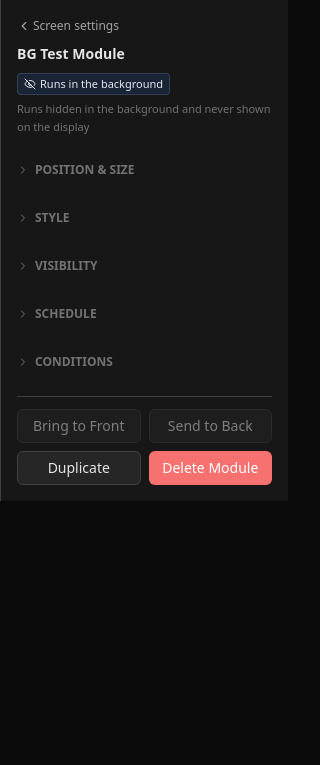
Test: PropertyPanel background-provider toggle › (b) shows the toggle and the obsolete hint for a flagged stateProvider plugin instance
Click the button "Visibility" at (144, 266), box [17,252,272,280]
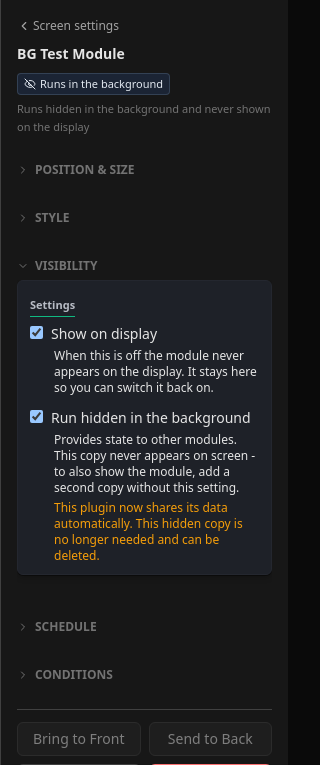
Now the text "This plugin now shares its data automatically. This hidden copy is no longer needed and can be deleted." is shown, box [54,499,243,564]
